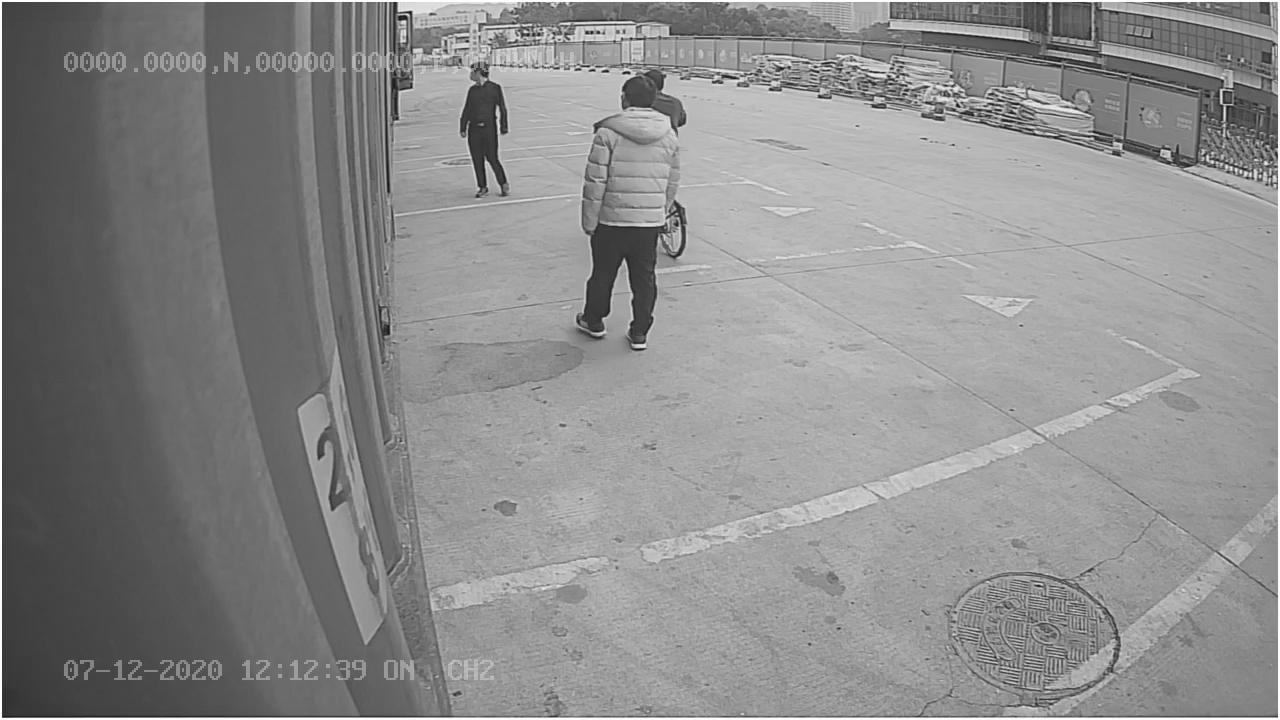person: (575, 74, 680, 353)
